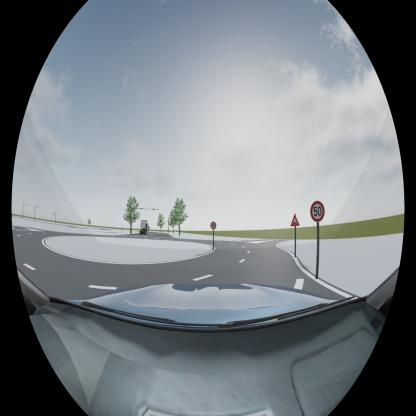Speed Limit 50: (310, 200, 324, 221), (210, 221, 216, 229)
